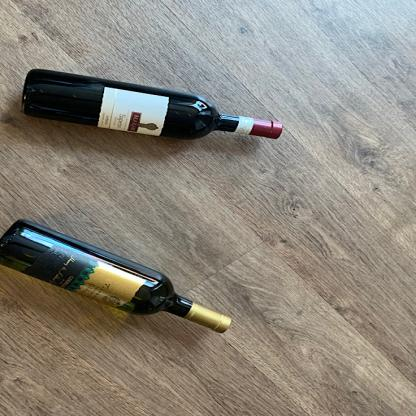trash: (0, 216, 240, 335), (19, 64, 288, 144)
